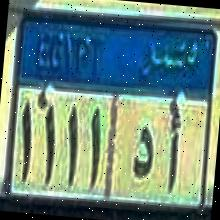1: (82, 108, 104, 190), (61, 106, 83, 188), (40, 106, 62, 188), (18, 102, 34, 180)
alif: (160, 112, 184, 196)
daal: (132, 123, 158, 181)
